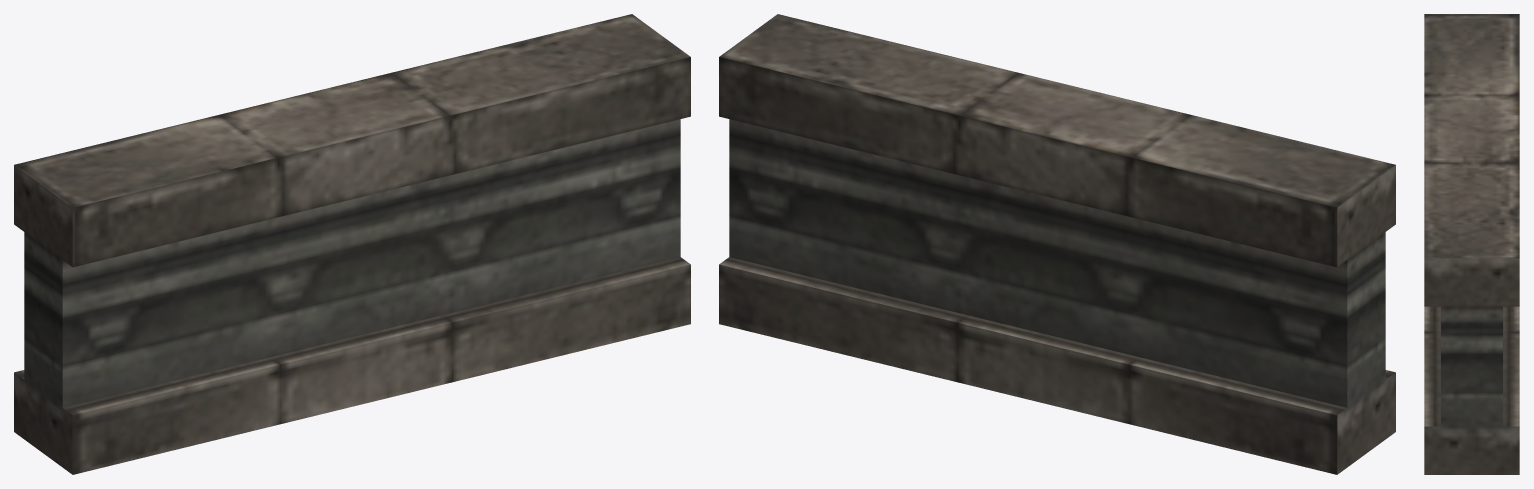
3 views of the same model, side by side, from view 1: azimuth 30°, elevation 25°; view 2: azimuth 150°, elevation 25°; view 3: azimuth 270°, elevation 25° (orthographic). The views are drawn at different scales.
Parts seen in each view (by area): view 1: object35; view 2: object35; view 3: object35.
Part boxes in pixels (box(x1,y1,x2,y2)): object35: box(14, 14, 690, 474); object35: box(719, 14, 1395, 474); object35: box(1424, 14, 1519, 474).
Bounding box in the file's own units: 256 × 106 × 42.13.
